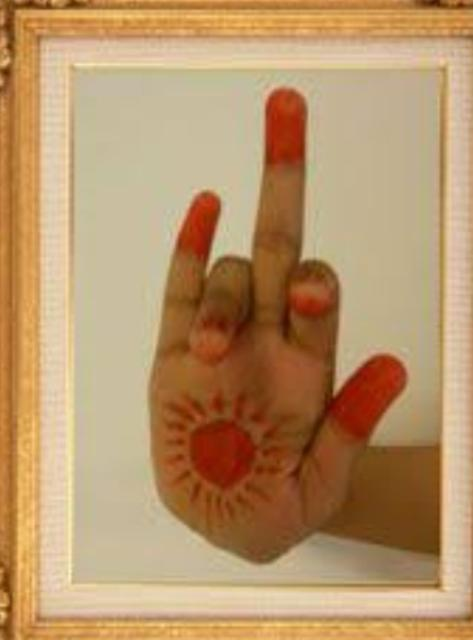shuktund: (142, 83, 411, 566)
